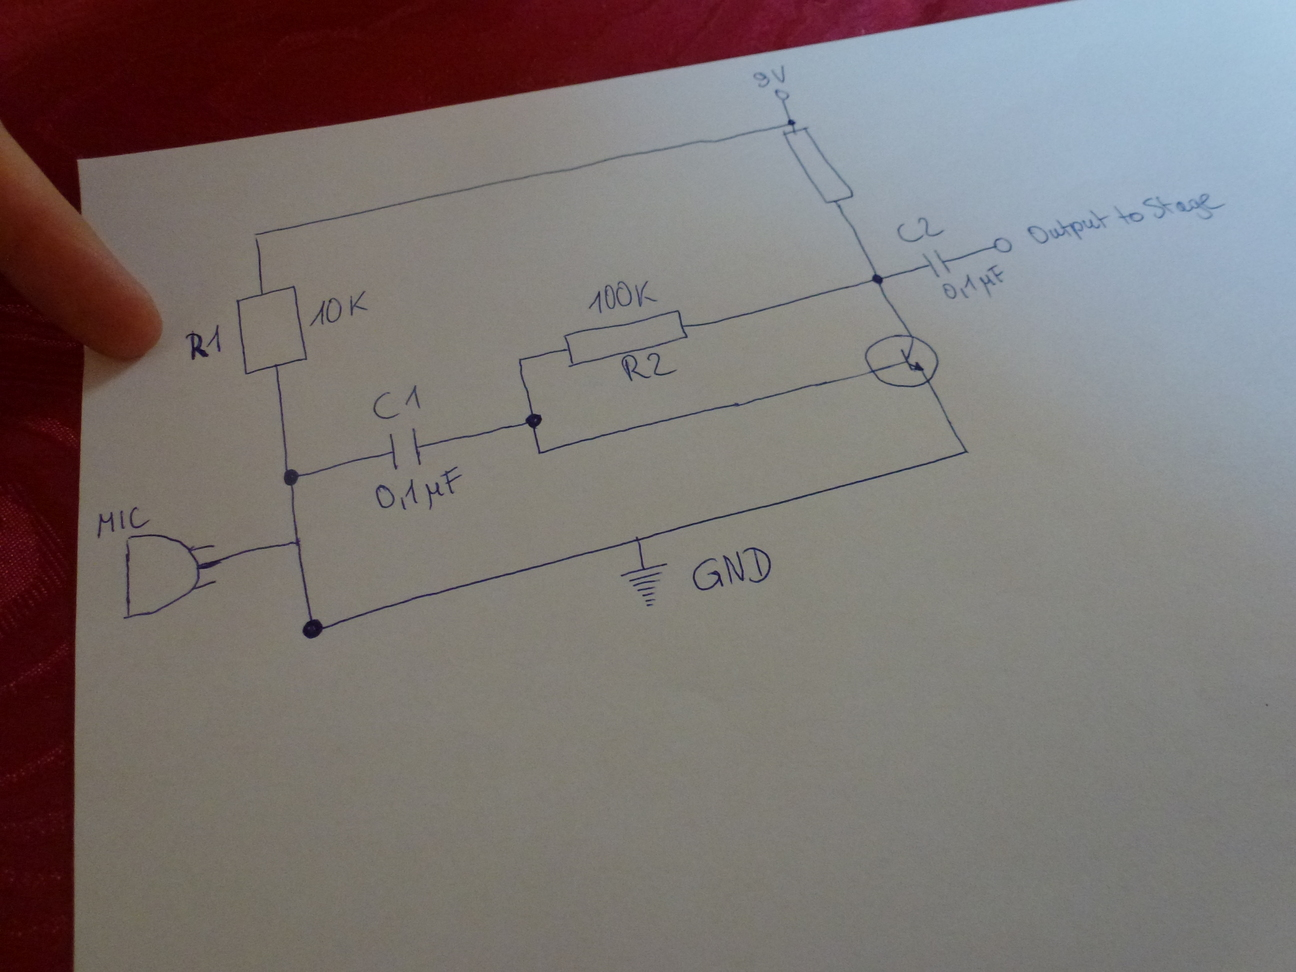capacitor.unpolarized: (384, 425, 425, 475), (923, 249, 957, 277)
gnd: (618, 558, 672, 607)
junction: (297, 612, 328, 642), (280, 464, 302, 491), (950, 438, 974, 461), (522, 409, 544, 431), (866, 269, 888, 287), (289, 534, 304, 551), (249, 228, 265, 243), (513, 351, 528, 367), (533, 444, 546, 459), (632, 534, 645, 548), (784, 116, 797, 128)
microphone: (121, 530, 220, 623)
resistor: (561, 307, 689, 370), (232, 284, 310, 375), (780, 126, 856, 206)
terminal: (990, 236, 1015, 254), (772, 87, 791, 104)
text: (1025, 189, 1225, 243), (373, 464, 464, 514), (690, 545, 772, 595), (585, 279, 660, 315), (306, 288, 370, 329), (942, 263, 1006, 303), (371, 382, 426, 422), (93, 504, 151, 541), (617, 350, 679, 383), (184, 324, 227, 363), (894, 213, 946, 243), (752, 63, 788, 89)
transistor: (860, 330, 944, 389)
